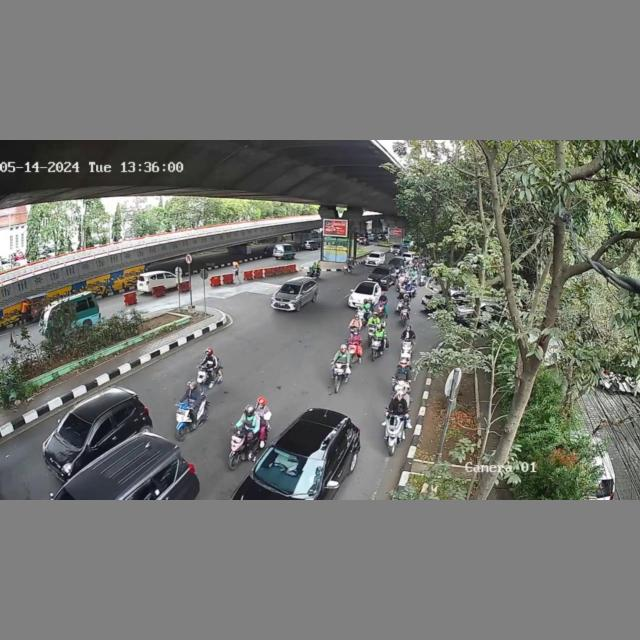windshield: (253, 447, 323, 495), (53, 411, 94, 450), (277, 282, 303, 297), (354, 283, 375, 296)
